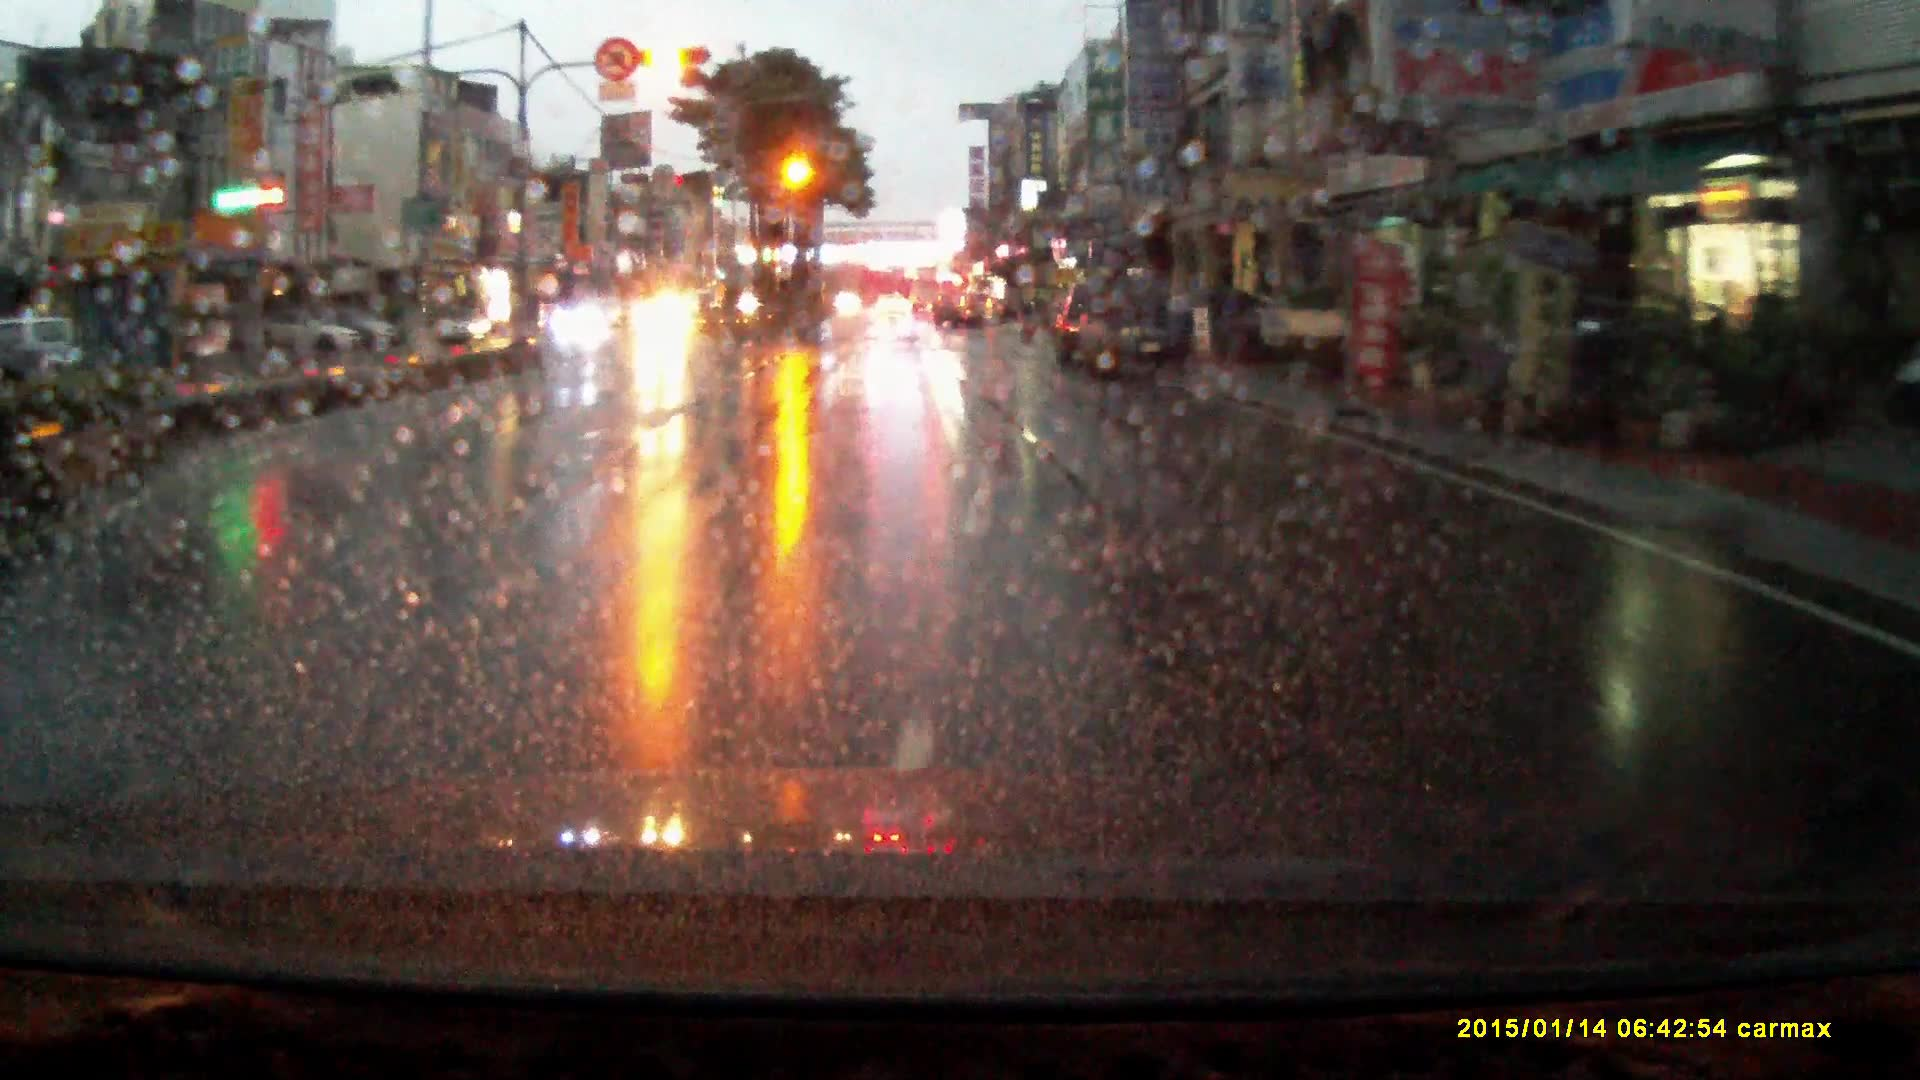vehicle: (1075, 276, 1197, 388), (1257, 310, 1373, 360), (251, 313, 356, 357), (626, 294, 702, 347), (1055, 285, 1091, 371), (935, 287, 996, 331), (335, 316, 404, 353), (554, 305, 615, 344), (433, 309, 493, 347), (911, 270, 944, 314), (876, 297, 913, 319)
